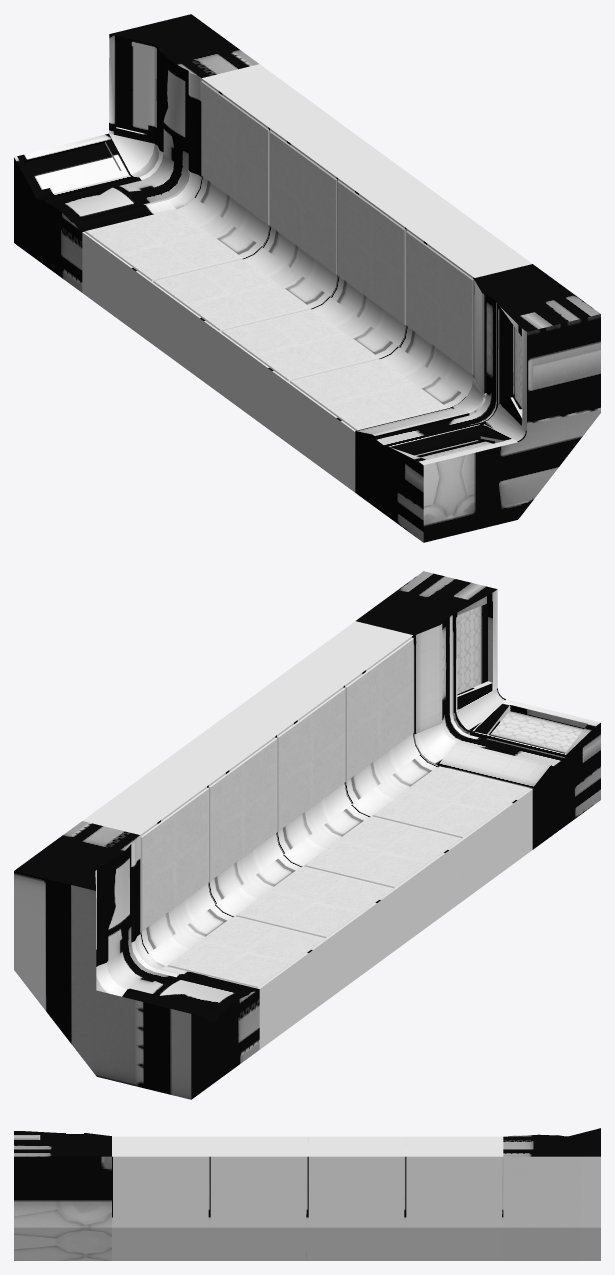
Rendered from WallCornerIn_4.fbx.
3 renders of one model, top to bottom at view 1: azimuth 30°, elevation 25°; view 2: azimuth 150°, elevation 25°; view 3: azimuth 270°, elevation 25°, orthographic. The views are drawn at different scales.
Parts seen in each view (by area): view 1: WallCornerIn_4; view 2: WallCornerIn_4; view 3: WallCornerIn_4.
Boxes of the visible parts, x1,y1,x2,y2 form: WallCornerIn_4: [14, 14, 600, 542]; WallCornerIn_4: [14, 571, 600, 1099]; WallCornerIn_4: [14, 1128, 600, 1260].
Size of the model in its own units: 1.5 by 1.5 by 6.
